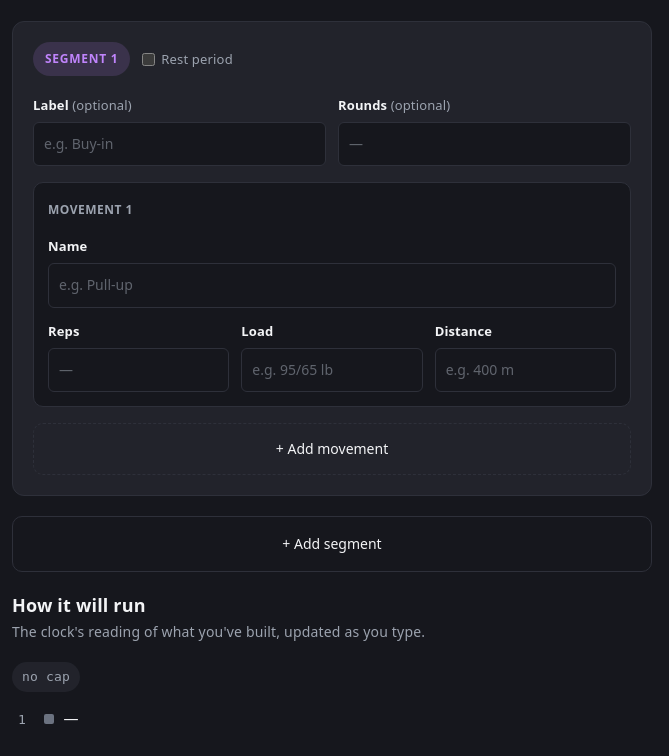
segments and movements › removes a movement once there is more than one
The image size is (669, 756).
(page scrolled)
Click the button "+ Add movement" at (332, 449), box [33, 423, 631, 475]
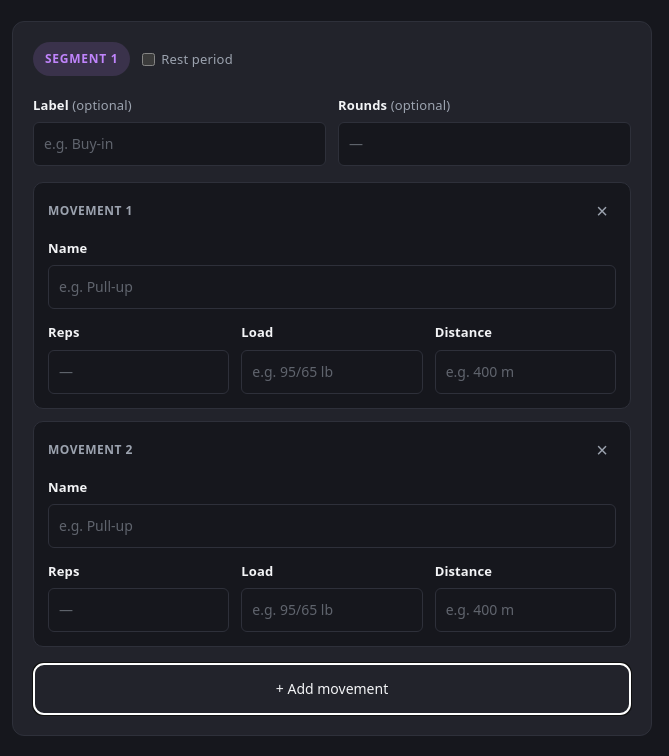
Click the button named "Remove movement 2" at (602, 450), box [588, 436, 616, 464]
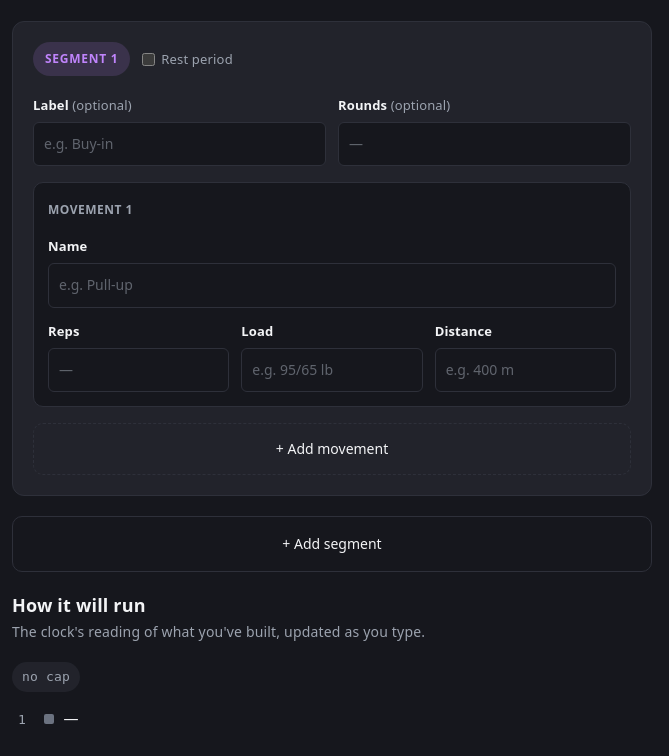
Expected: the number of fields with placeholder "e.g. Pull-up" is 1, [48, 264, 616, 308]
